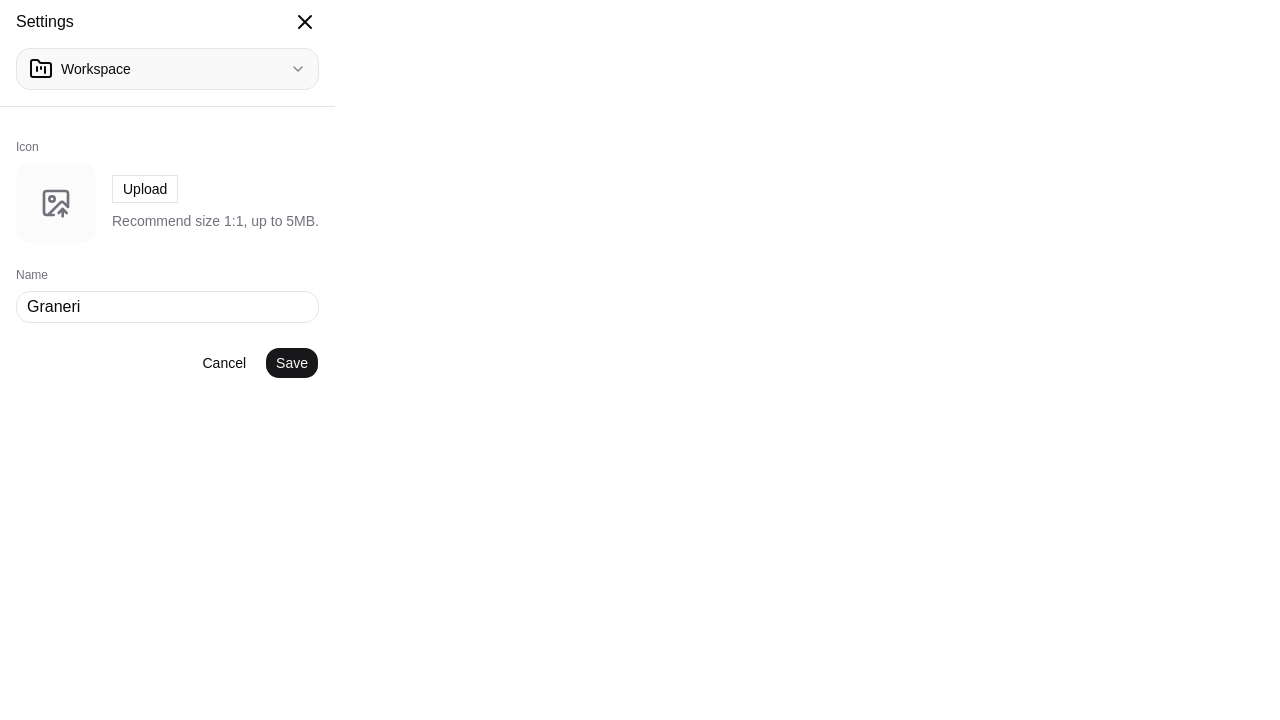
Scenario: settings dialog cancel actions › resets workspace edits and closes settings
This screenshot has width=1280, height=720.
Expected: the button "Cancel" is enabled, top-left (192, 347), bottom-right (257, 379)
Replace the text in the field labelled "Name" with "New workspace". click: (168, 307)
box: top-left (16, 291), bottom-right (319, 323)
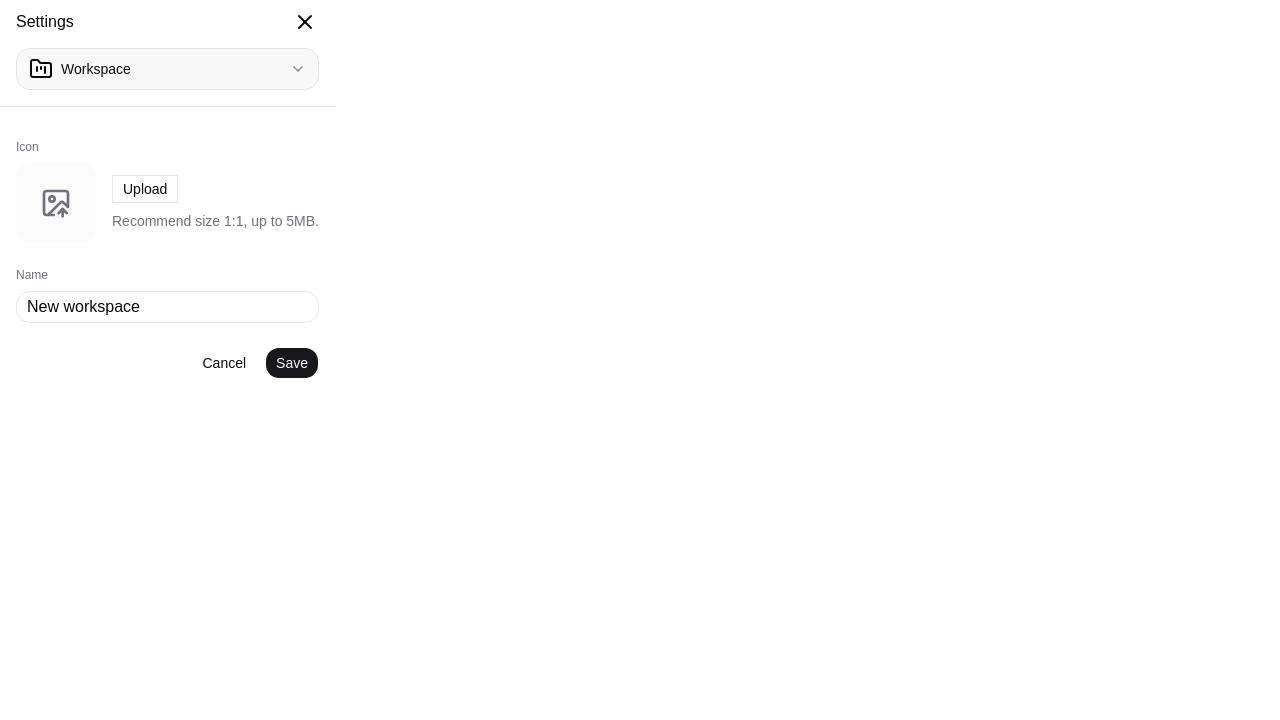
Click the button "Cancel". click: click(224, 363)
box: top-left (192, 347), bottom-right (257, 379)
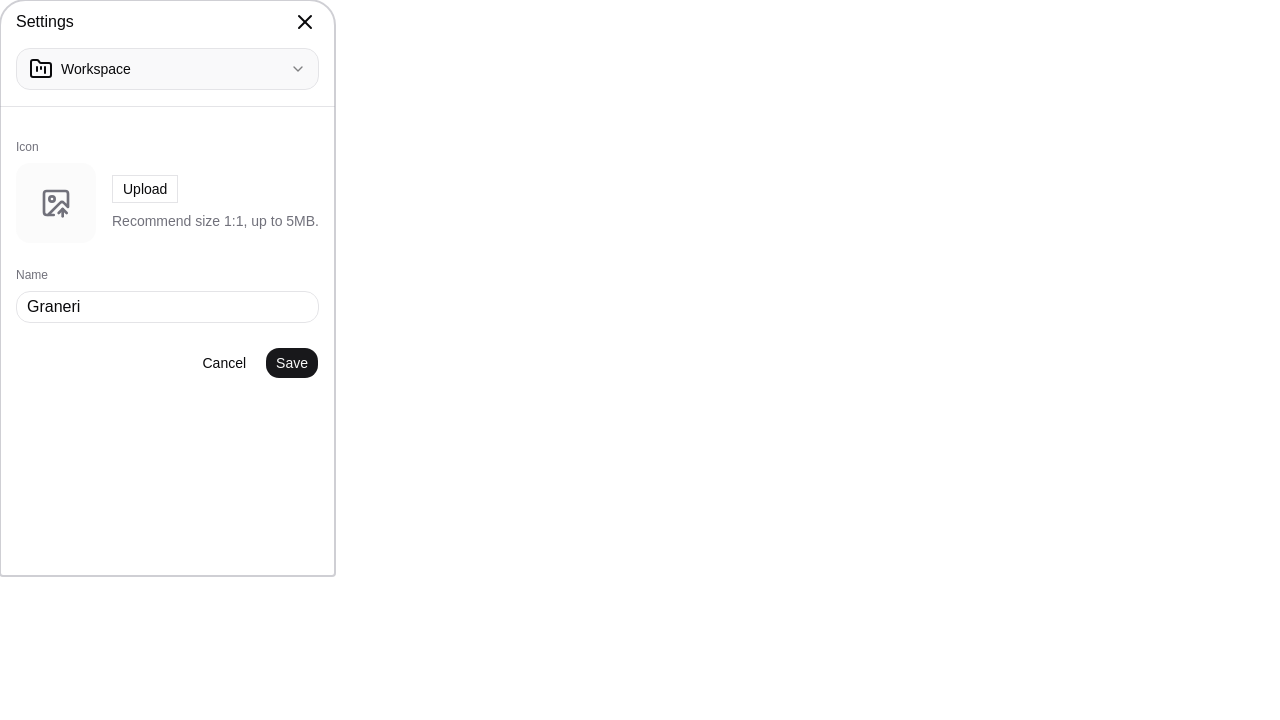
Now the field labelled "Name" holds "Graneri", box top-left (16, 291), bottom-right (319, 323)
